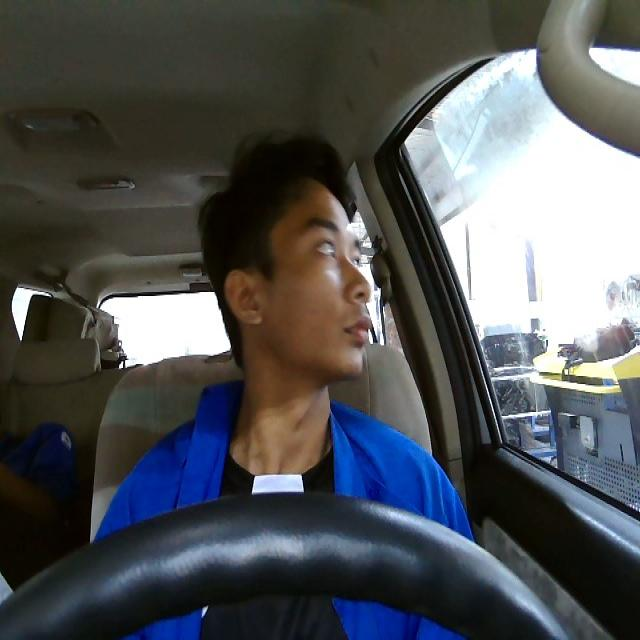seeing_right: (220, 171, 373, 380)
